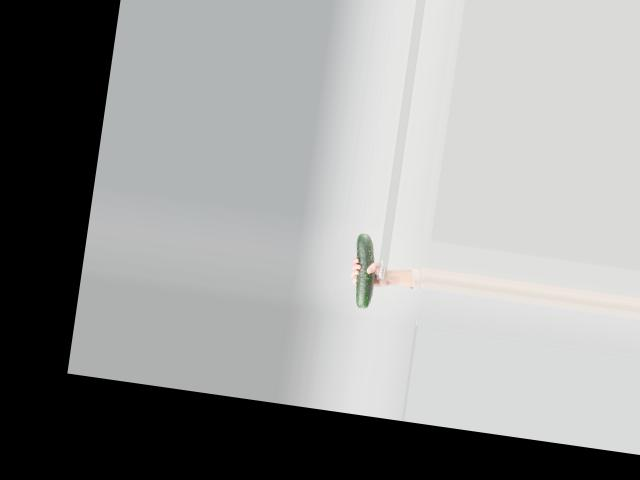cucumber: (347, 232, 380, 307)
